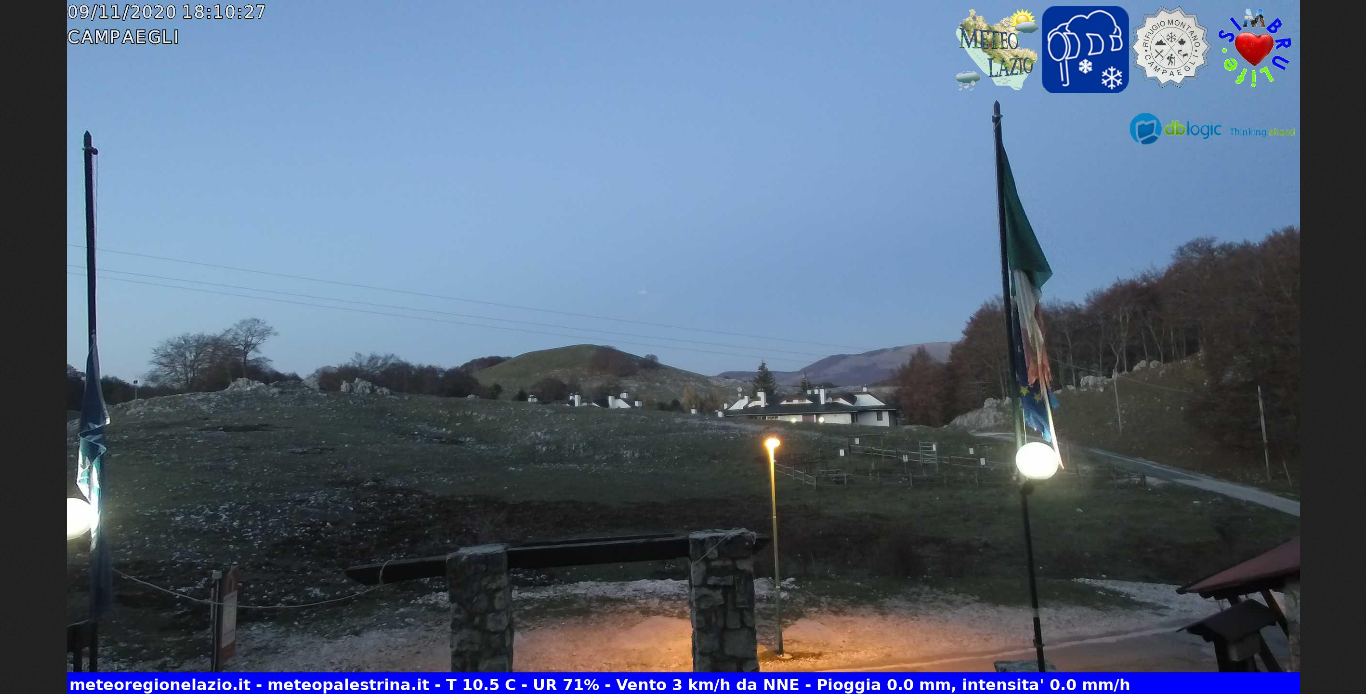no: (987, 92, 1078, 454)
